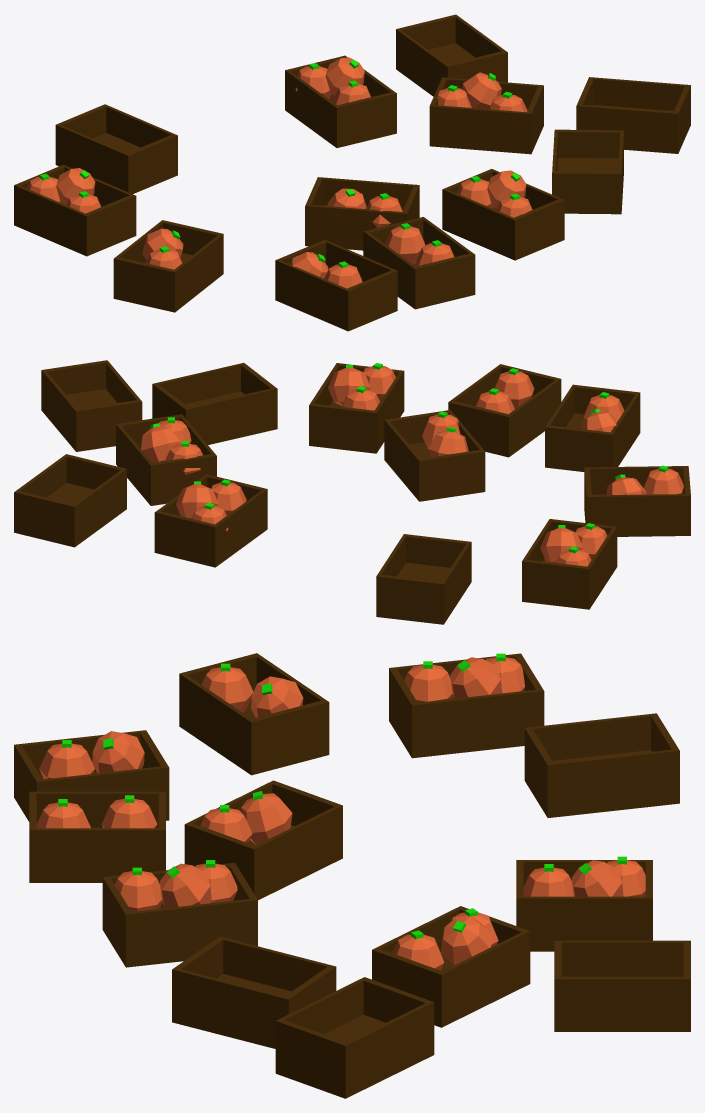
The model's file is genasc.glb.
3 renders of one model, top to bottom at view 1: azimuth 30°, elevation 25°; view 2: azimuth 150°, elevation 25°; view 3: azimuth 270°, elevation 25°, orthographic. The views are drawn at different scales.
Visible parts, largest first — view 1: Cube.003, Cube.004, Cube.006, Cube.011, Cube.009, Cube.002, Cube.001, Cube.005, Cube.007, Cube.008, Cube.012, Cube.010 (+20 smaller); view 2: Cube.001, Cube.007, Cube.003, Cube.004, Cube.010, Cube.011, Cube.008, Cube.006, Cube.012, Cube.009, Cube.002, Cube.005 (+20 smaller); view 3: Cube.004, Cube.003, Cube.001, Cube.007, Cube.011, Cube.012, Cube.009, Cube.010, Cube.005, Cube.002, Cube.008, Cube.006 (+19 smaller).
Boxes of the visible parts, x1=… form: Cube.003: x1=55, y1=104, x2=177, y2=193; Cube.004: x1=576, y1=77, x2=690, y2=153; Cube.006: x1=275, y1=239, x2=397, y2=331; Cube.011: x1=113, y1=220, x2=223, y2=312; Cube.009: x1=14, y1=164, x2=136, y2=256; Cube.002: x1=442, y1=169, x2=564, y2=260; Cube.001: x1=396, y1=14, x2=507, y2=96; Cube.005: x1=429, y1=77, x2=543, y2=154; Cube.007: x1=552, y1=129, x2=623, y2=214; Cube.008: x1=285, y1=55, x2=396, y2=147; Cube.012: x1=363, y1=217, x2=475, y2=309; Cube.010: x1=305, y1=177, x2=419, y2=250; Cube.001: x1=14, y1=454, x2=126, y2=547; Cube.007: x1=152, y1=363, x2=277, y2=444; Cube.003: x1=376, y1=534, x2=471, y2=624; Cube.004: x1=41, y1=360, x2=142, y2=451; Cube.010: x1=384, y1=410, x2=485, y2=501; Cube.011: x1=584, y1=466, x2=690, y2=536; Cube.008: x1=154, y1=474, x2=267, y2=567; Cube.006: x1=545, y1=384, x2=640, y2=471; Cube.012: x1=448, y1=364, x2=561, y2=457; Cube.009: x1=522, y1=519, x2=617, y2=609; Cube.002: x1=309, y1=363, x2=404, y2=453; Cube.005: x1=116, y1=414, x2=216, y2=505; Cube.004: x1=275, y1=977, x2=434, y2=1098; Cube.003: x1=524, y1=713, x2=679, y2=817; Cube.001: x1=554, y1=940, x2=690, y2=1031; Cube.007: x1=172, y1=936, x2=336, y2=1048; Cube.011: x1=179, y1=653, x2=329, y2=775; Cube.012: x1=29, y1=791, x2=165, y2=882; Cube.009: x1=389, y1=653, x2=544, y2=758; Cube.010: x1=184, y1=780, x2=342, y2=900; Cube.005: x1=372, y1=906, x2=530, y2=1027; Cube.002: x1=102, y1=862, x2=257, y2=967; Cube.008: x1=516, y1=860, x2=652, y2=951; Cube.006: x1=14, y1=730, x2=169, y2=821.
Bounding box in the file's own units: 4.69 × 0.4782 × 3.41.
